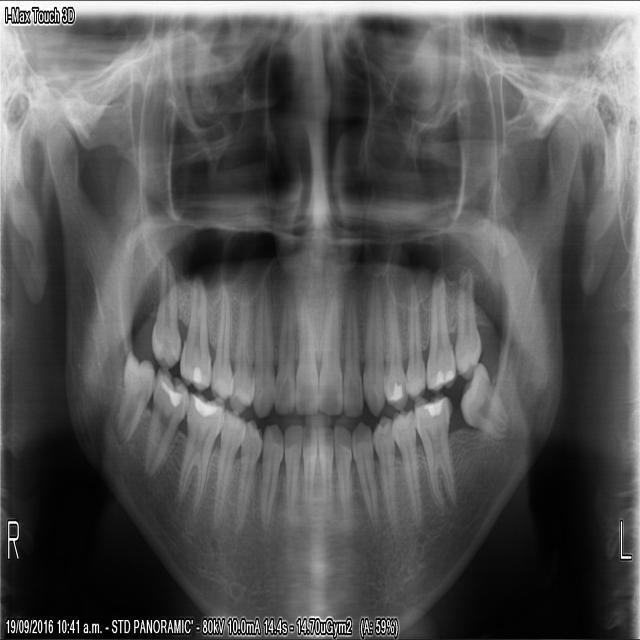LCD: (350, 418, 379, 539)
LCU: (361, 275, 385, 418)
LID: (332, 423, 351, 527), (317, 425, 334, 524)
LIU: (317, 287, 342, 418), (342, 285, 362, 418)
LMD: (413, 390, 457, 509), (457, 359, 510, 439)
LMU: (424, 268, 456, 394), (453, 260, 482, 380)
LPMD: (392, 406, 423, 533), (374, 412, 397, 533)
LPMU: (385, 271, 407, 411), (405, 276, 425, 403)
RCD: (257, 418, 281, 536)
RCU: (248, 271, 273, 419)
RID: (282, 418, 299, 529), (300, 423, 316, 530)
RIU: (292, 282, 318, 416), (272, 284, 294, 416)
RMD: (172, 388, 222, 523), (141, 369, 185, 478), (110, 345, 152, 450)
RMU: (148, 243, 181, 372), (178, 270, 210, 393)
RPMD: (229, 415, 260, 537), (210, 407, 240, 531)
RPMU: (226, 271, 251, 415), (208, 278, 230, 405)
